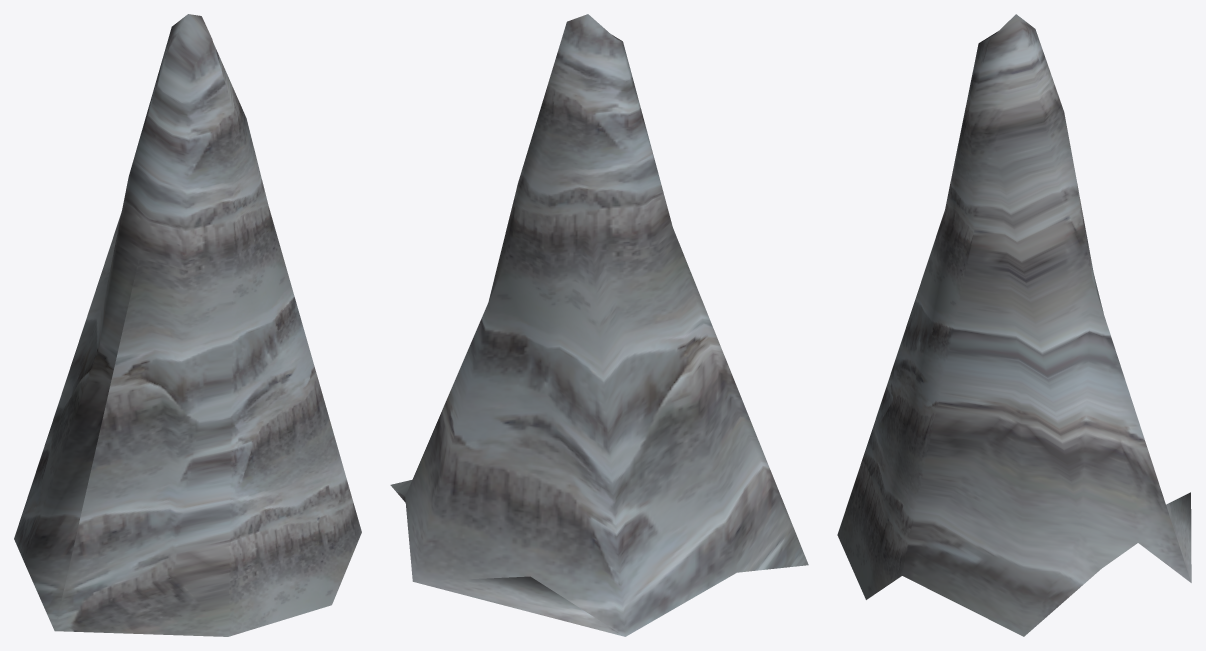
File: SnowyMountain_1.gltf
3 views of the same model, side by side, from view 1: azimuth 30°, elevation 25°; view 2: azimuth 150°, elevation 25°; view 3: azimuth 270°, elevation 25° (orthographic).
Visible parts, largest first — view 1: SnowyMountain_1; view 2: SnowyMountain_1; view 3: SnowyMountain_1.
Boxes of the visible parts, x1,y1,x2,y2 form: SnowyMountain_1: [14, 14, 361, 636]; SnowyMountain_1: [390, 14, 808, 636]; SnowyMountain_1: [837, 14, 1191, 636].
Bounding box in the file's own units: 72.21 × 110 × 64.16.
Materials: 1 (1 with a texture image).
